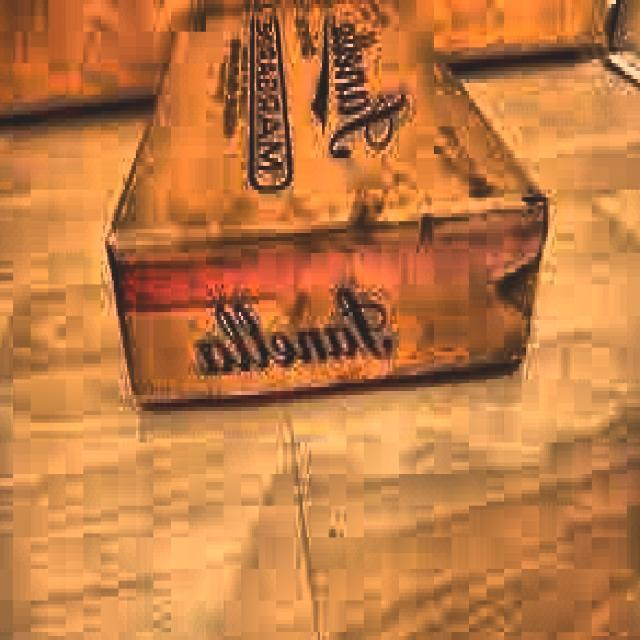cardboard: (105, 0, 552, 407)
